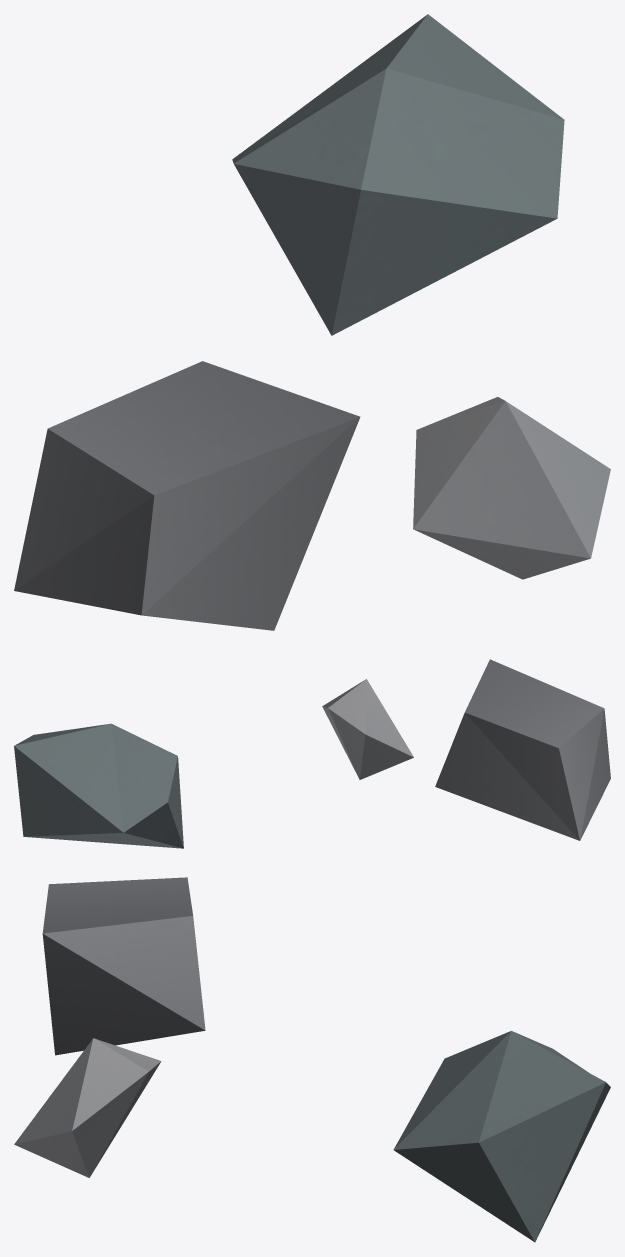
Rendered from Rock_V_Sm_Combine_2.fbx.
The picture shows the model from 3 angles, top to bottom: view 1: azimuth 30°, elevation 25°; view 2: azimuth 150°, elevation 25°; view 3: azimuth 270°, elevation 25°; orthographic projection. The views are drawn at different scales.
Visible parts, largest first — view 1: polySurface142; view 2: polySurface142; view 3: polySurface142.
Part boxes in pixels (x1,y1,x2,y2): polySurface142: [14, 14, 610, 630]; polySurface142: [14, 659, 610, 848]; polySurface142: [14, 877, 610, 1242].
Bounding box in the file's own units: 80.32 × 27.61 × 74.41.
